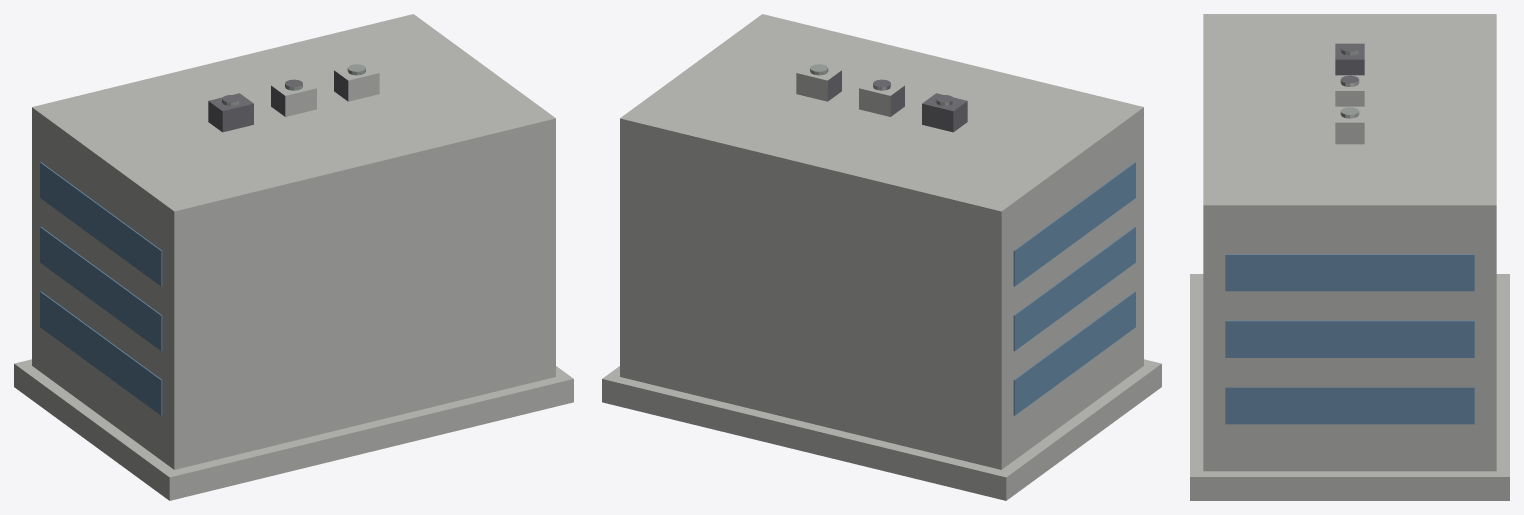
The model's file is office_lowrise_concrete.glb.
3 views of the same model, side by side, from view 1: azimuth 30°, elevation 25°; view 2: azimuth 150°, elevation 25°; view 3: azimuth 270°, elevation 25° (orthographic). The views are drawn at different scales.
Visible parts, largest first — view 1: office_lowrise_concrete; view 2: office_lowrise_concrete; view 3: office_lowrise_concrete.
Part boxes in pixels (x1,y1,x2,y2): office_lowrise_concrete: (14, 14, 573, 500); office_lowrise_concrete: (602, 14, 1161, 500); office_lowrise_concrete: (1190, 14, 1509, 500).
Bounding box in the file's own units: 18 × 13.25 × 12.
